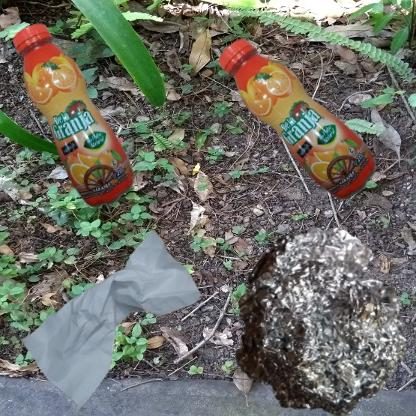aluminio: (213, 213, 416, 416)
botella: (213, 10, 416, 299), (10, 10, 156, 246)
papel: (10, 213, 215, 416)
